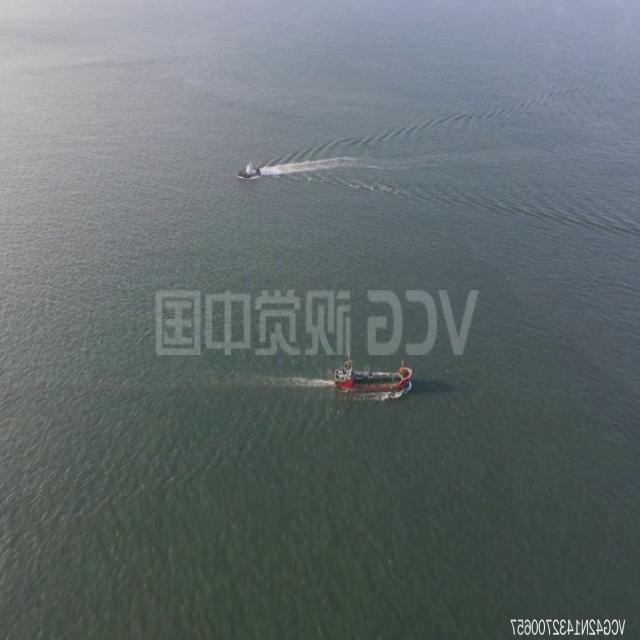cargoship: (334, 351, 414, 396), (236, 160, 261, 178)
